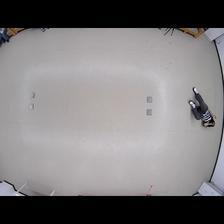fall: (186, 85, 216, 127)
